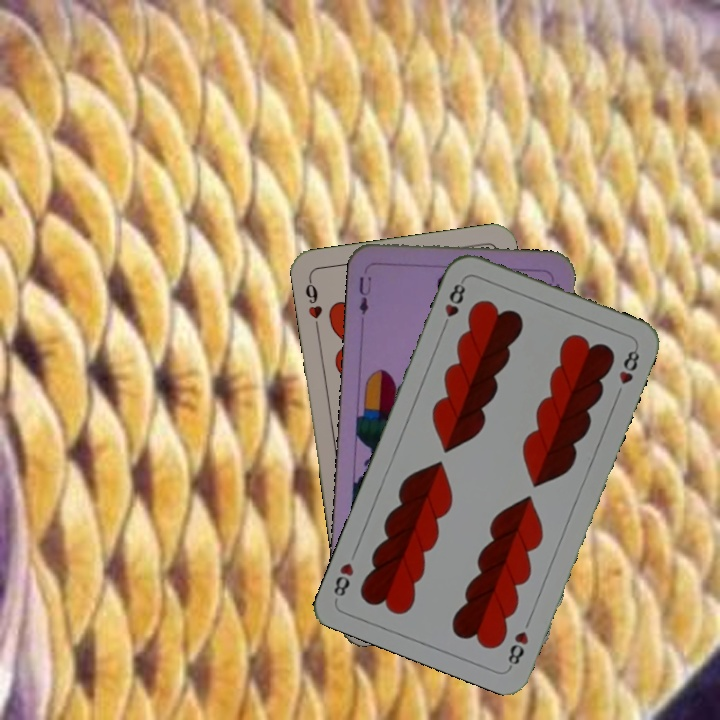EU: (355, 272, 374, 317)
H8: (438, 276, 468, 333), (504, 627, 531, 670)
H9: (301, 275, 325, 334)
